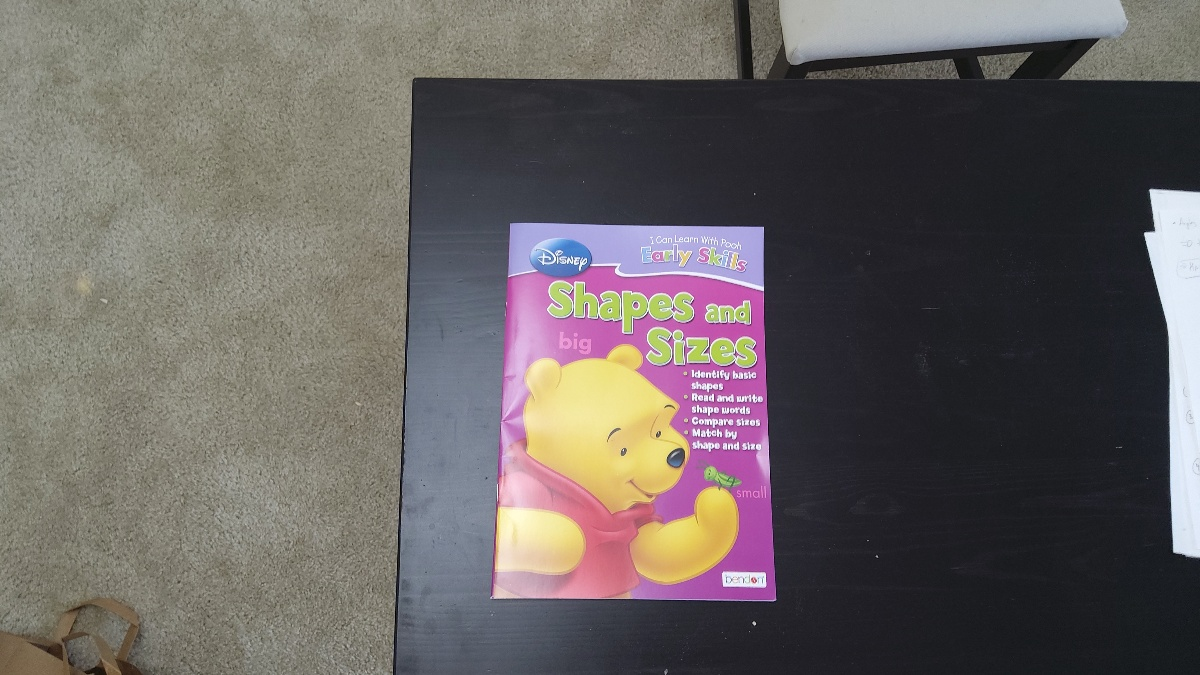book: (487, 220, 771, 607)
